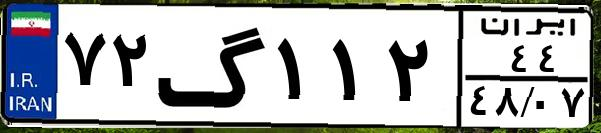0: (535, 70, 560, 125)
1: (270, 28, 330, 110), (330, 28, 385, 110)
2: (385, 28, 445, 110), (110, 28, 156, 98)
4: (537, 27, 568, 80), (508, 27, 537, 80), (470, 70, 495, 125)
7: (57, 26, 110, 100), (560, 70, 590, 125)
8: (495, 70, 520, 125)
گ: (156, 12, 270, 120)
